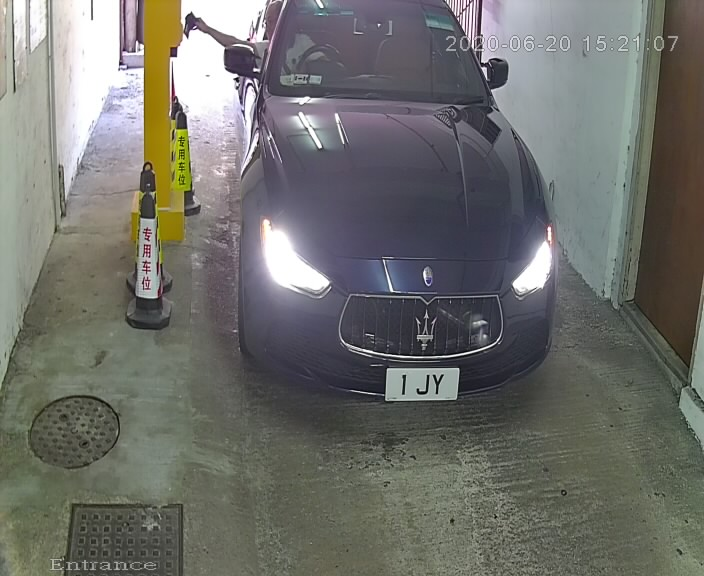privatecar: (227, 3, 563, 429)
